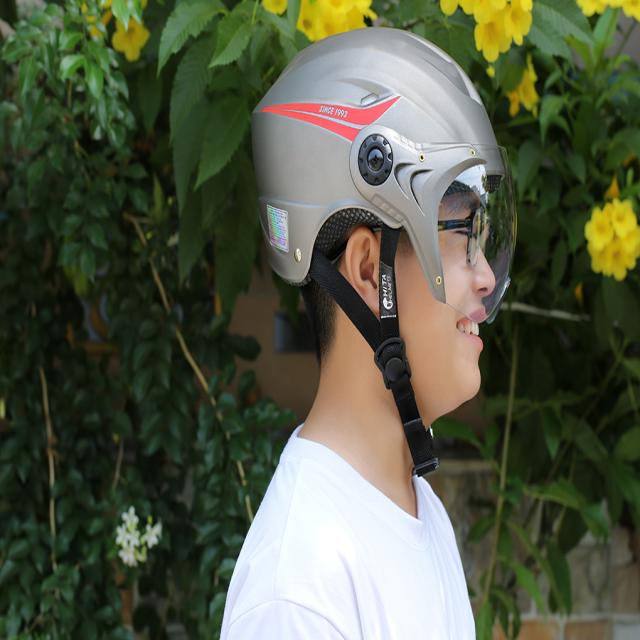helmet: (245, 20, 523, 330)
